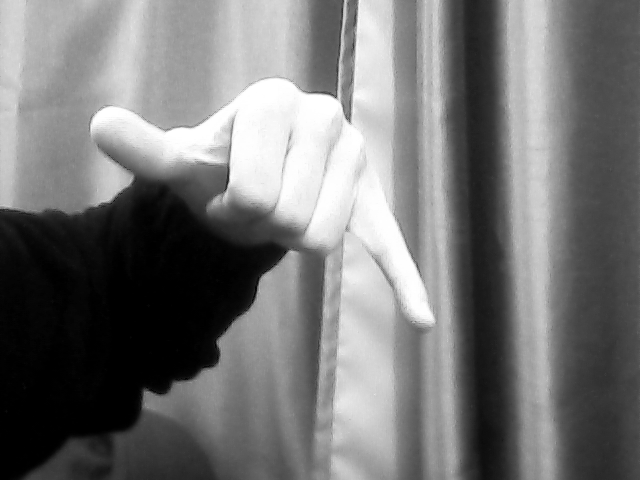aloha: (85, 72, 446, 332)
